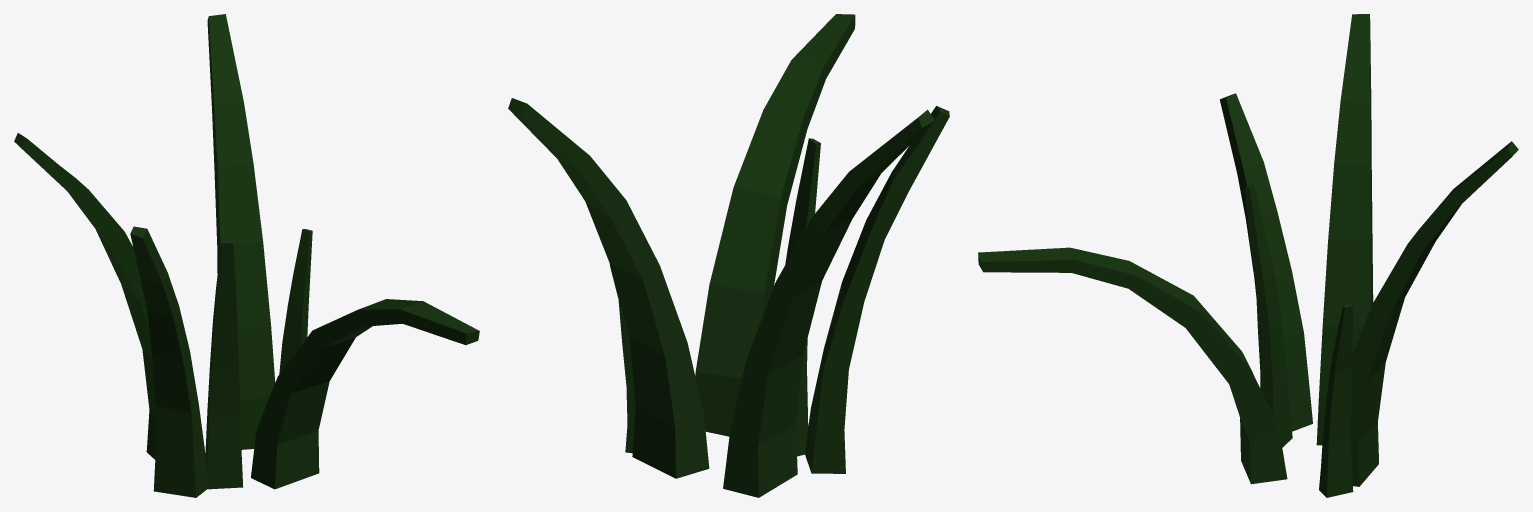
The model's file is grass004_grass2_0_lev1.glb.
The picture shows the model from 3 angles, left to right: view 1: azimuth 30°, elevation 25°; view 2: azimuth 150°, elevation 25°; view 3: azimuth 270°, elevation 25°; orthographic projection. The views are drawn at different scales.
Parts seen in each view (by area): view 1: grass004_grass2_0_lev1; view 2: grass004_grass2_0_lev1; view 3: grass004_grass2_0_lev1.
Part boxes in pixels (x1,y1,x2,y2): grass004_grass2_0_lev1: [14, 14, 479, 497]; grass004_grass2_0_lev1: [508, 14, 949, 497]; grass004_grass2_0_lev1: [978, 14, 1518, 497].
Bounding box in the file's own units: 0.2056 × 0.2436 × 0.3364.
